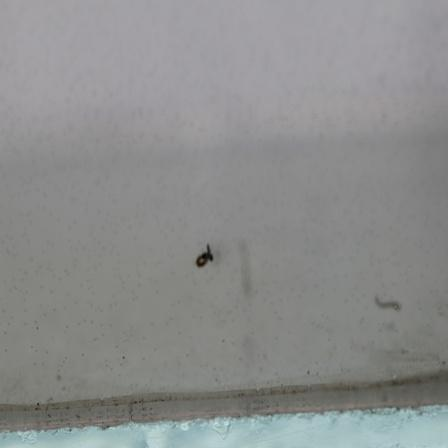Jentik-Nyamuk: (192, 241, 216, 273)
